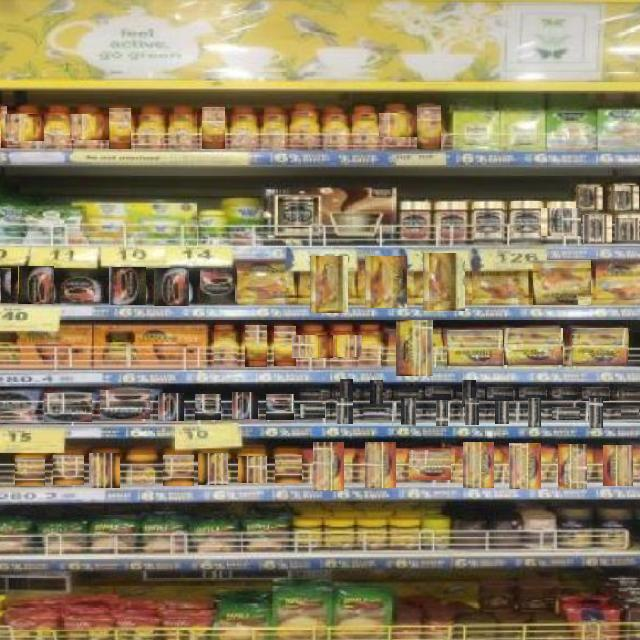Coffee: (533, 260, 591, 305), (238, 262, 296, 304), (473, 262, 530, 304), (423, 254, 465, 311), (309, 256, 348, 313), (364, 257, 407, 308), (504, 328, 563, 365), (571, 328, 628, 366), (396, 319, 433, 376), (446, 330, 503, 366), (593, 261, 640, 304), (508, 443, 541, 489), (313, 443, 344, 491), (43, 392, 92, 422), (100, 390, 150, 419), (63, 267, 102, 304), (462, 443, 494, 488), (365, 442, 396, 488), (109, 267, 146, 305), (18, 266, 54, 304), (558, 443, 587, 489), (155, 267, 189, 306), (511, 201, 541, 244), (199, 268, 235, 303), (409, 450, 451, 480), (604, 445, 633, 486), (0, 393, 37, 425), (291, 104, 316, 151), (169, 106, 196, 149), (230, 106, 257, 149), (540, 208, 581, 236), (475, 203, 503, 244), (416, 104, 441, 149), (4, 115, 47, 141), (44, 107, 70, 149), (89, 454, 120, 488), (68, 115, 110, 140), (374, 114, 419, 137), (355, 107, 379, 149), (138, 107, 162, 149), (124, 456, 157, 486), (202, 106, 225, 149), (324, 108, 348, 149), (163, 455, 194, 486), (52, 455, 84, 485), (199, 452, 228, 485), (245, 324, 267, 367), (109, 107, 131, 149), (215, 325, 237, 367), (273, 326, 296, 366), (360, 325, 382, 366), (321, 335, 362, 357), (292, 336, 333, 358), (14, 457, 45, 486), (264, 108, 286, 148), (583, 215, 612, 243), (239, 455, 267, 483), (266, 393, 294, 420), (275, 455, 302, 483), (195, 393, 221, 420), (158, 394, 184, 421), (611, 186, 639, 211), (232, 393, 258, 419), (575, 188, 603, 210), (615, 218, 640, 240), (336, 399, 353, 424), (401, 398, 416, 426), (551, 406, 580, 420), (589, 399, 603, 428), (582, 386, 609, 401), (518, 386, 546, 400), (425, 385, 451, 400), (487, 386, 513, 401), (0, 268, 11, 303), (462, 380, 476, 407), (550, 386, 577, 400), (363, 405, 390, 419), (300, 385, 325, 400), (339, 380, 353, 406), (397, 387, 423, 401), (465, 399, 479, 425), (528, 399, 541, 427), (300, 404, 325, 418), (435, 400, 448, 426), (617, 386, 639, 401), (371, 379, 383, 406), (496, 400, 509, 424), (0, 105, 7, 148), (620, 405, 640, 419)
